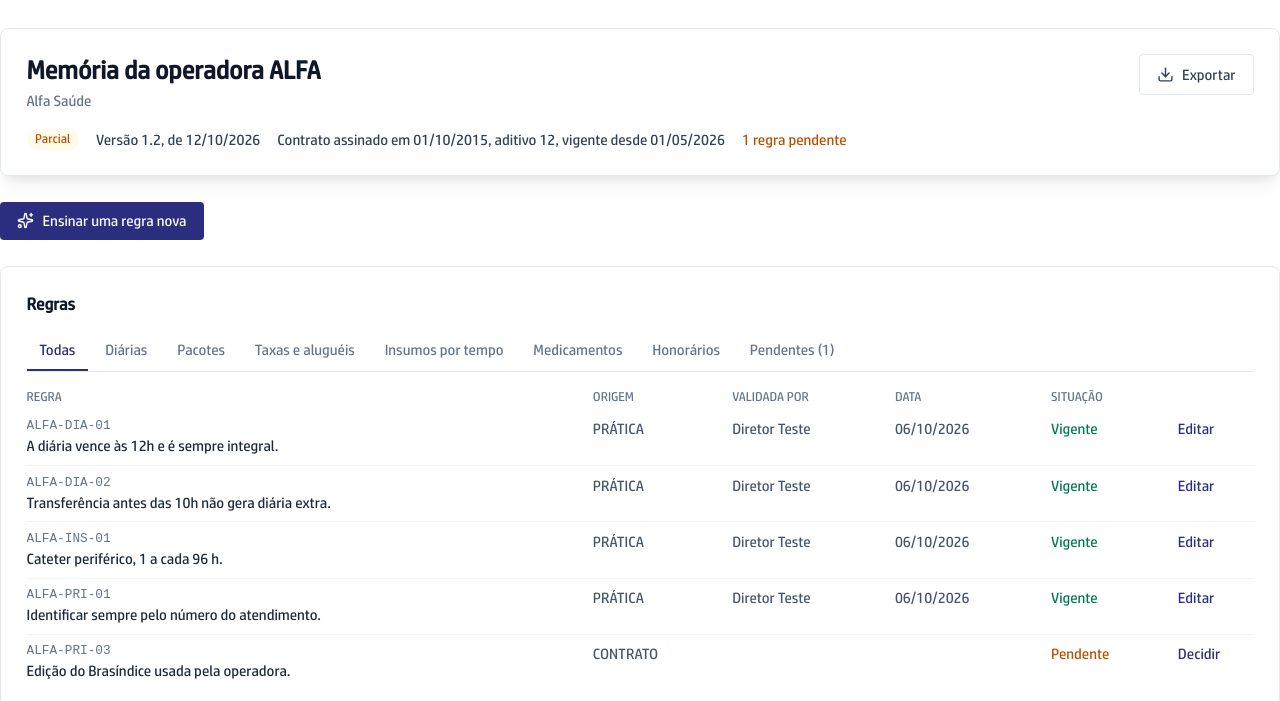
Test case: editar e decidir › mostra a recusa do servidor como veio
Click the button "Editar" in the row of "ALFA-DIA-01": [1196, 429] box x1=1178 y1=418 x2=1214 y2=440
(page scrolled)
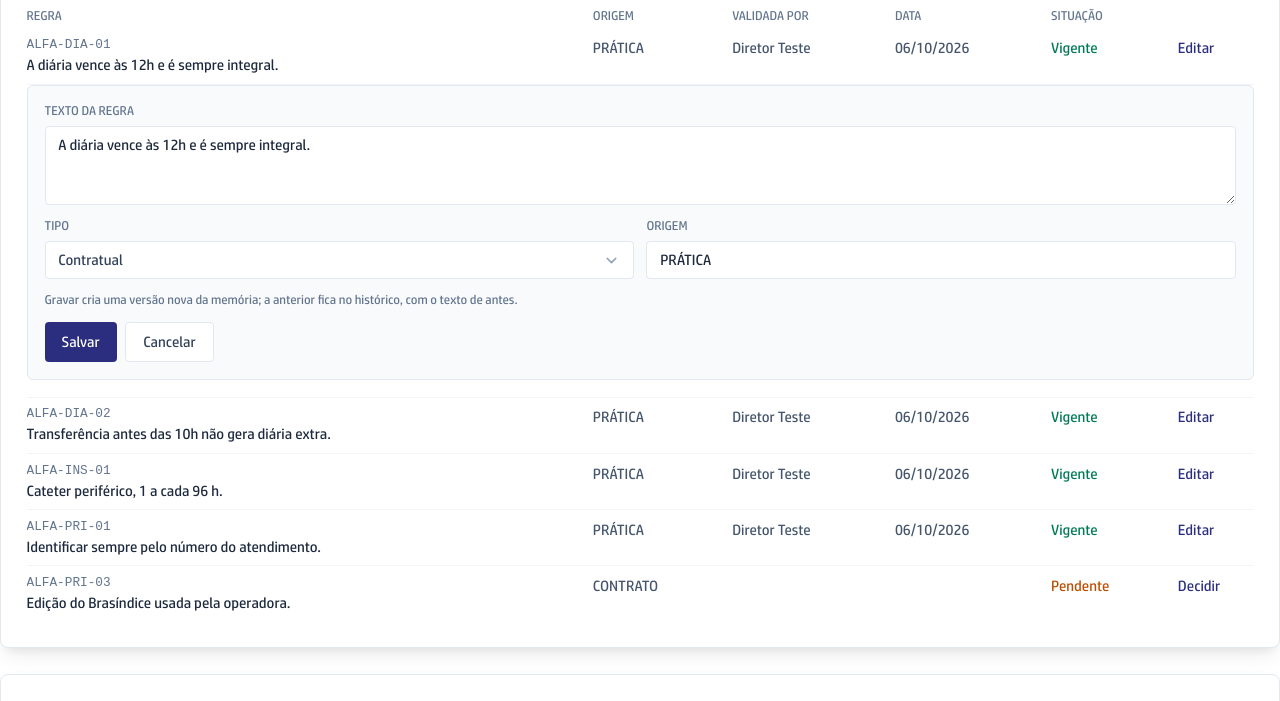
Click the button "Salvar": [81, 342] box x1=44 y1=322 x2=117 y2=362
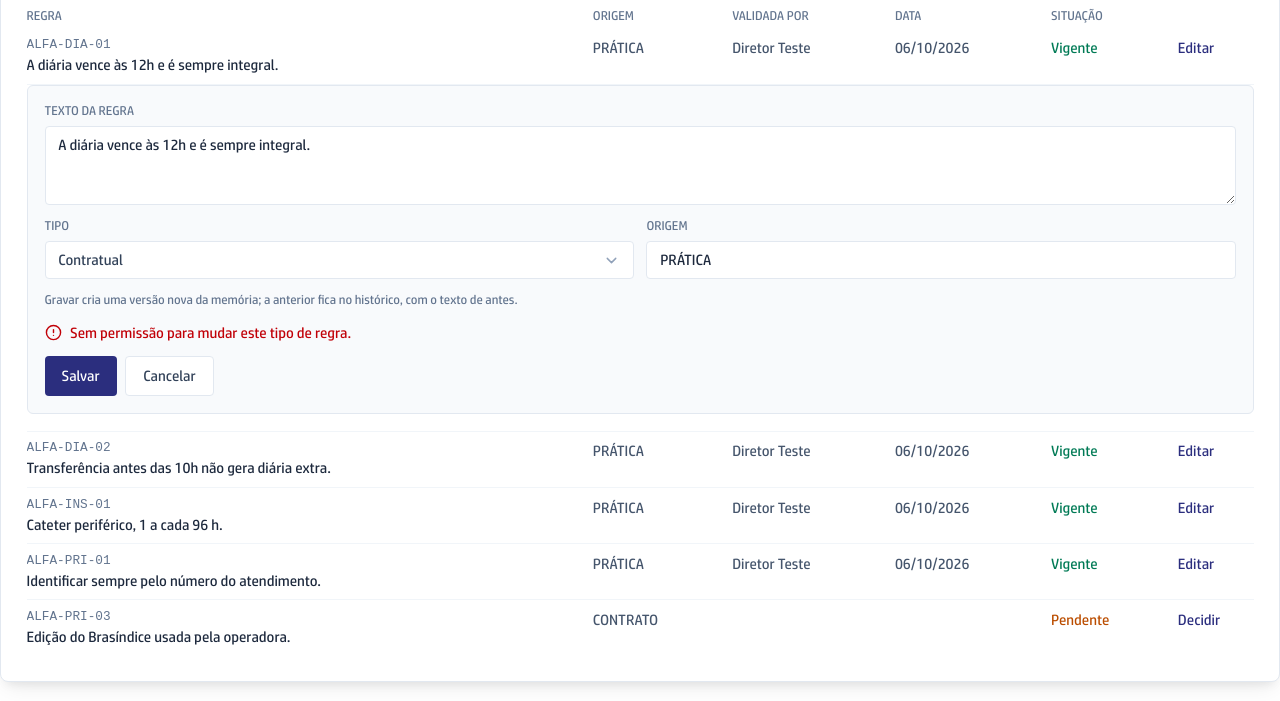
Check: the message reads "Sem permissão para mudar este tipo de regra.", box x1=70 y1=324 x2=351 y2=340
